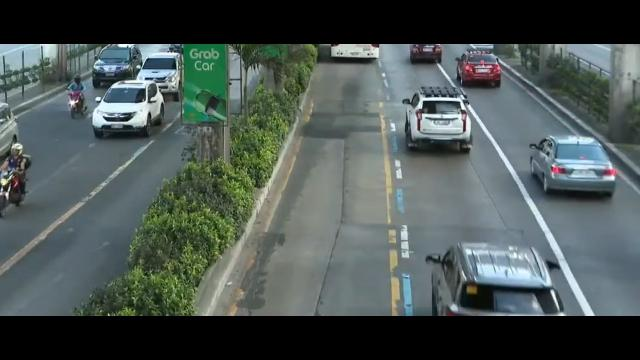bus: (321, 43, 383, 60)
car: (425, 241, 570, 315), (529, 134, 616, 200), (403, 87, 473, 154), (92, 80, 167, 141), (88, 41, 141, 93), (139, 49, 183, 95), (456, 50, 502, 88)
motorcycle: (0, 142, 33, 215), (67, 74, 88, 121)
